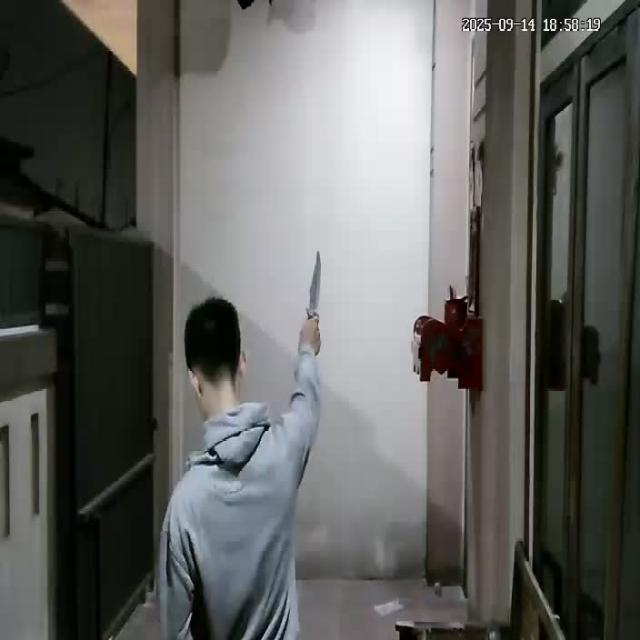senjata_tajam: (304, 247, 322, 322)
